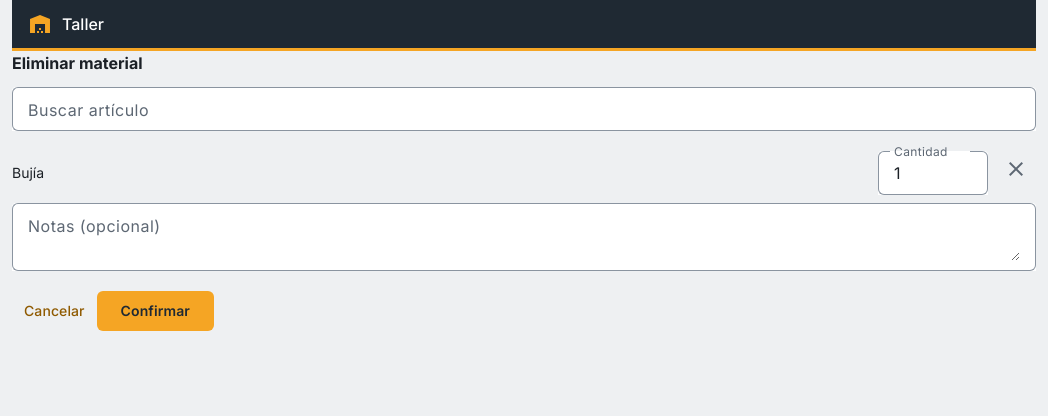
OperationFormComponent › tras insufficient_stock recarga el stock de origen y valida con él
Click the submit button.
click(155, 311)  # box [97,291,214,331]
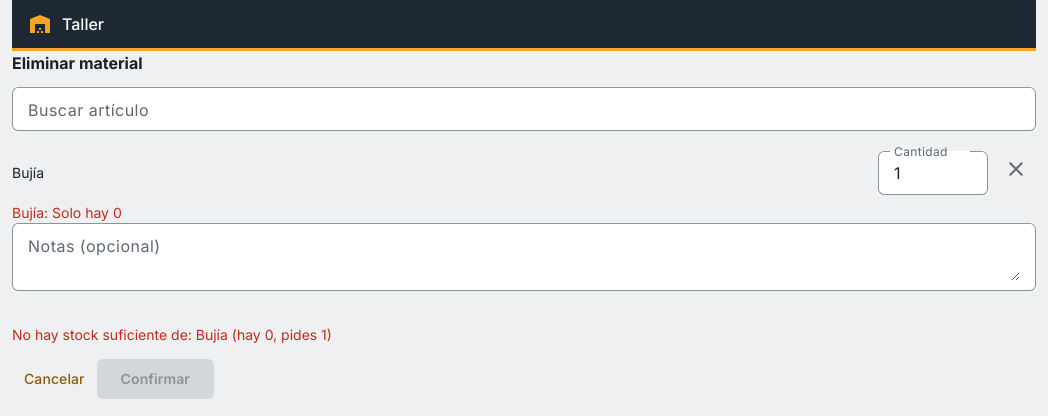
Check: the submit button is disabled, box [97,359,214,399]
